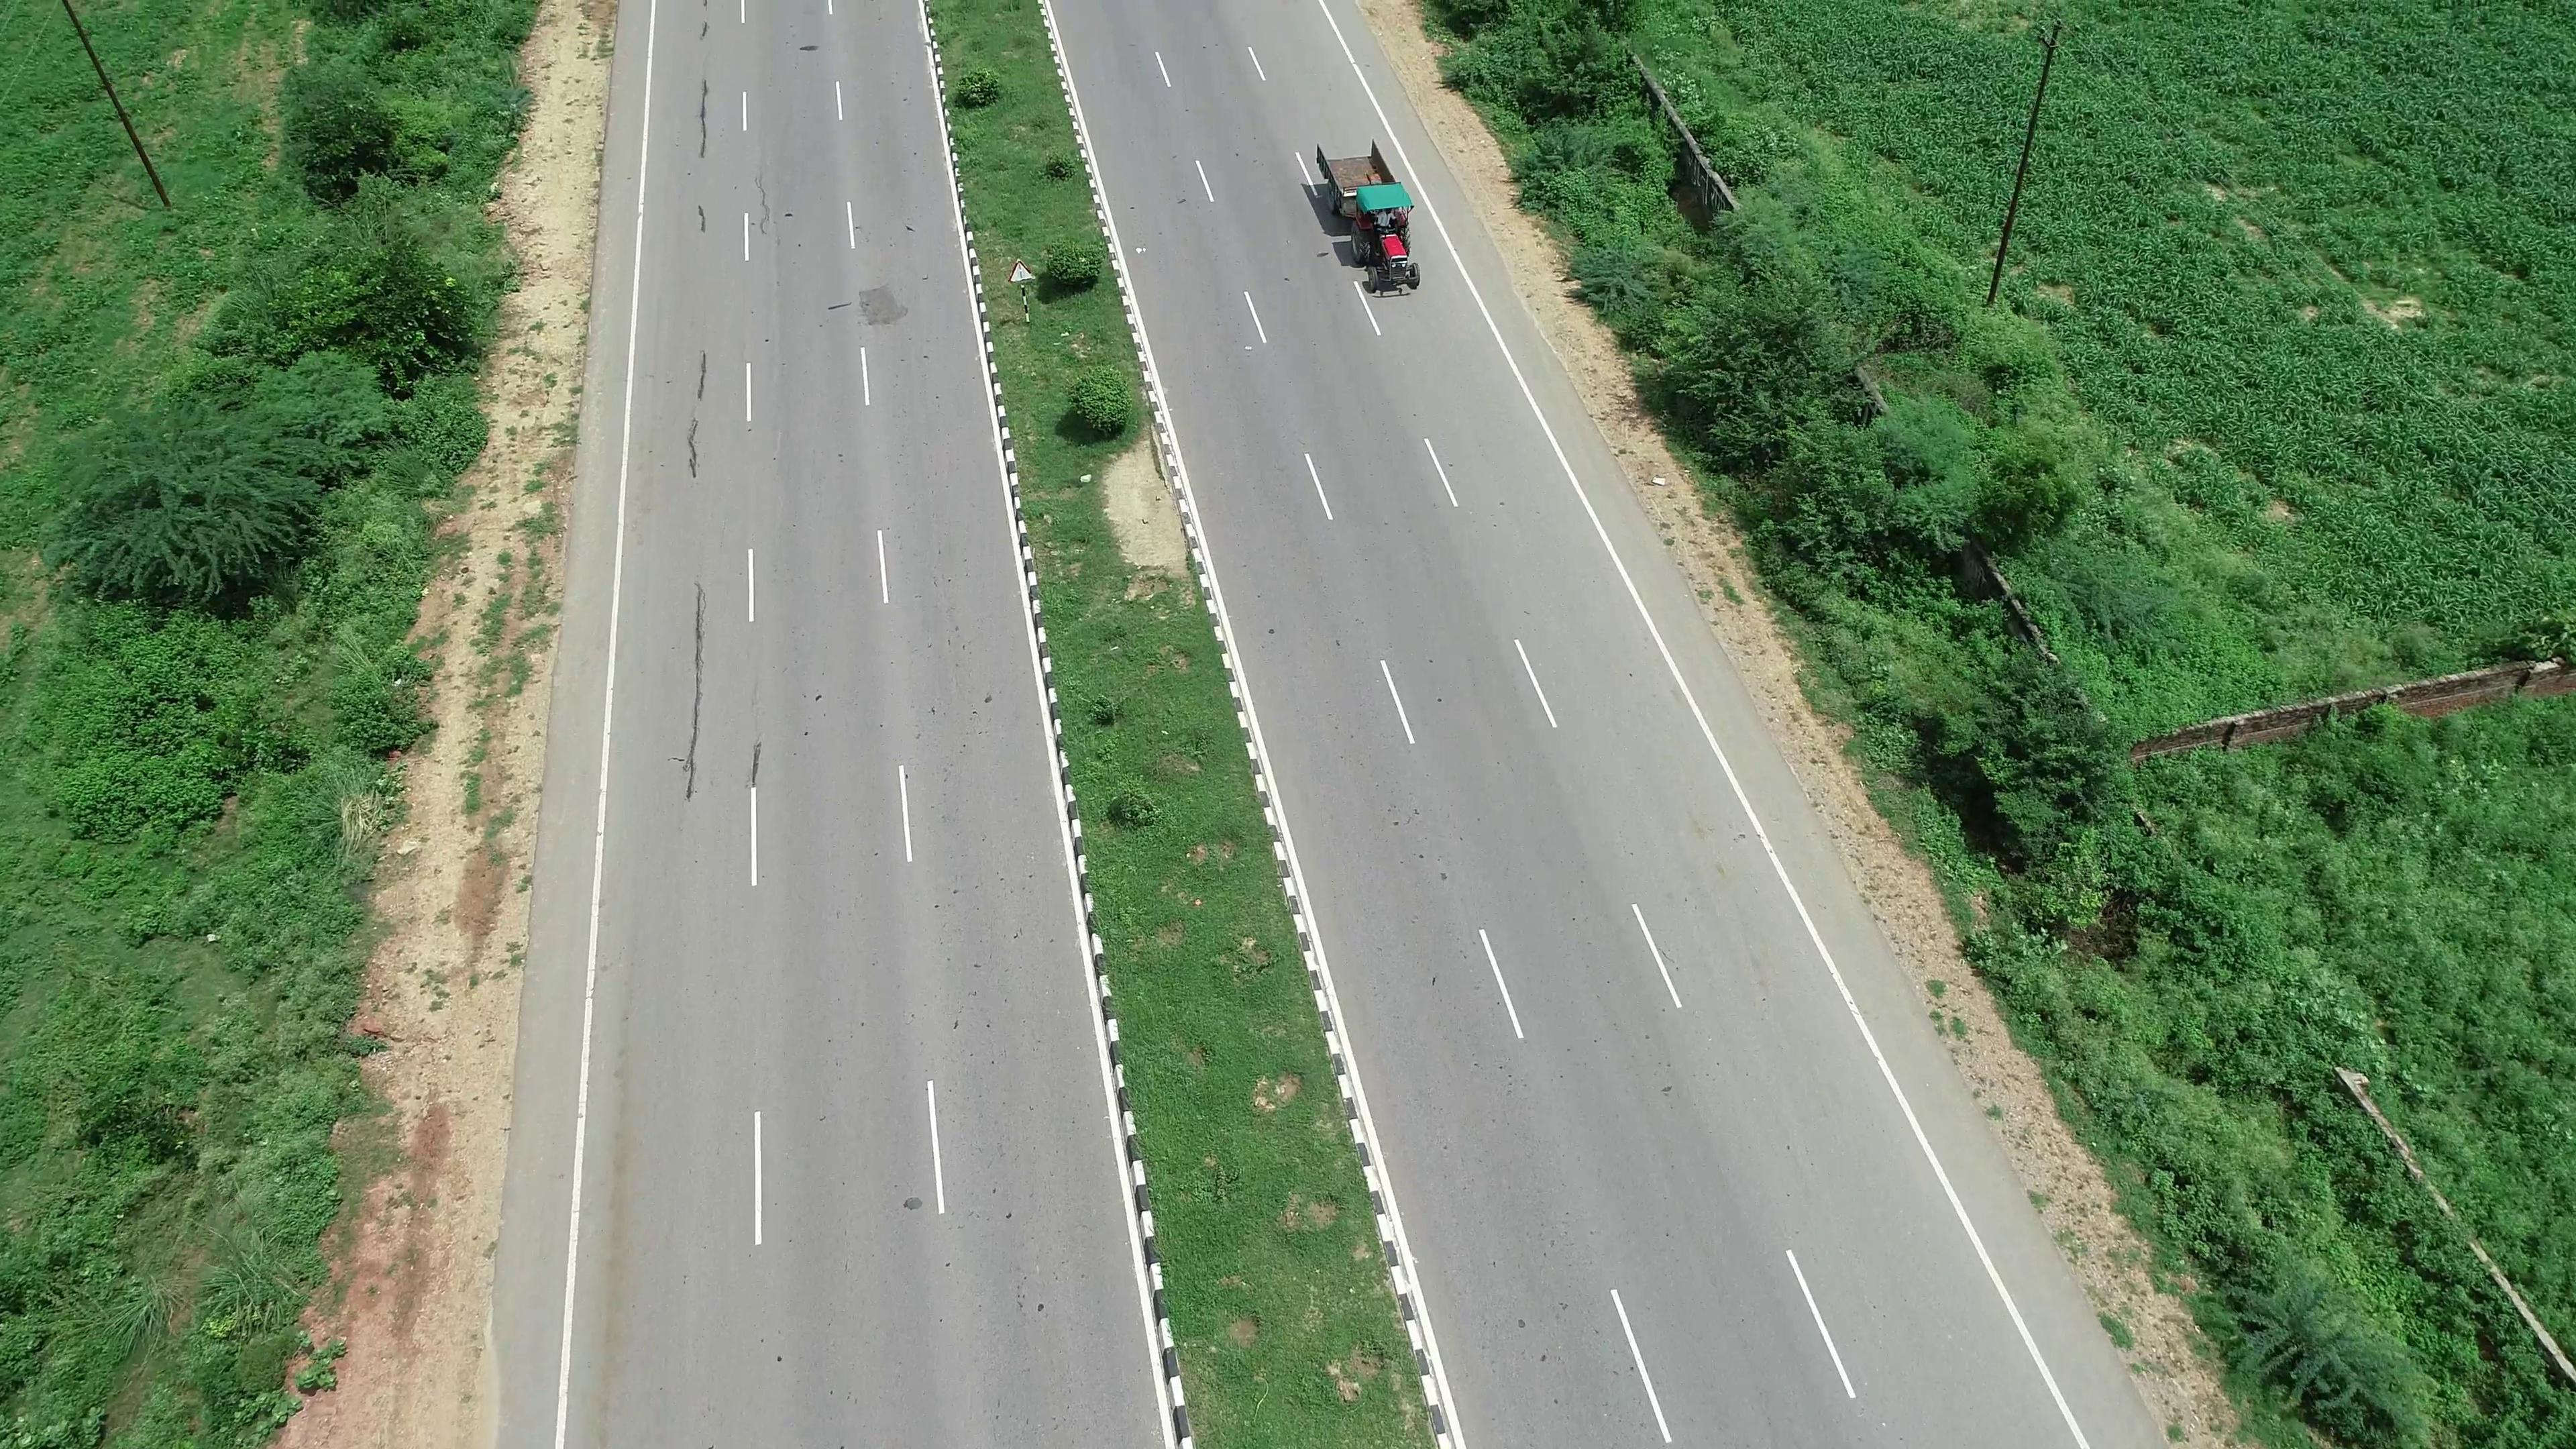Longitudinal_cracks: (662, 582, 727, 809), (676, 2, 722, 235), (663, 327, 722, 469)
